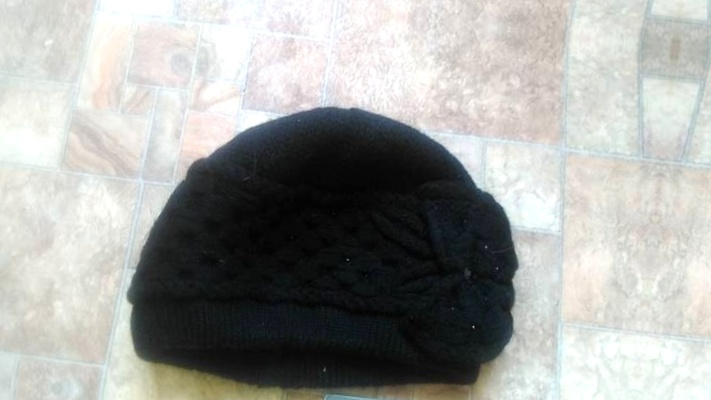Hat: (88, 60, 541, 400)
